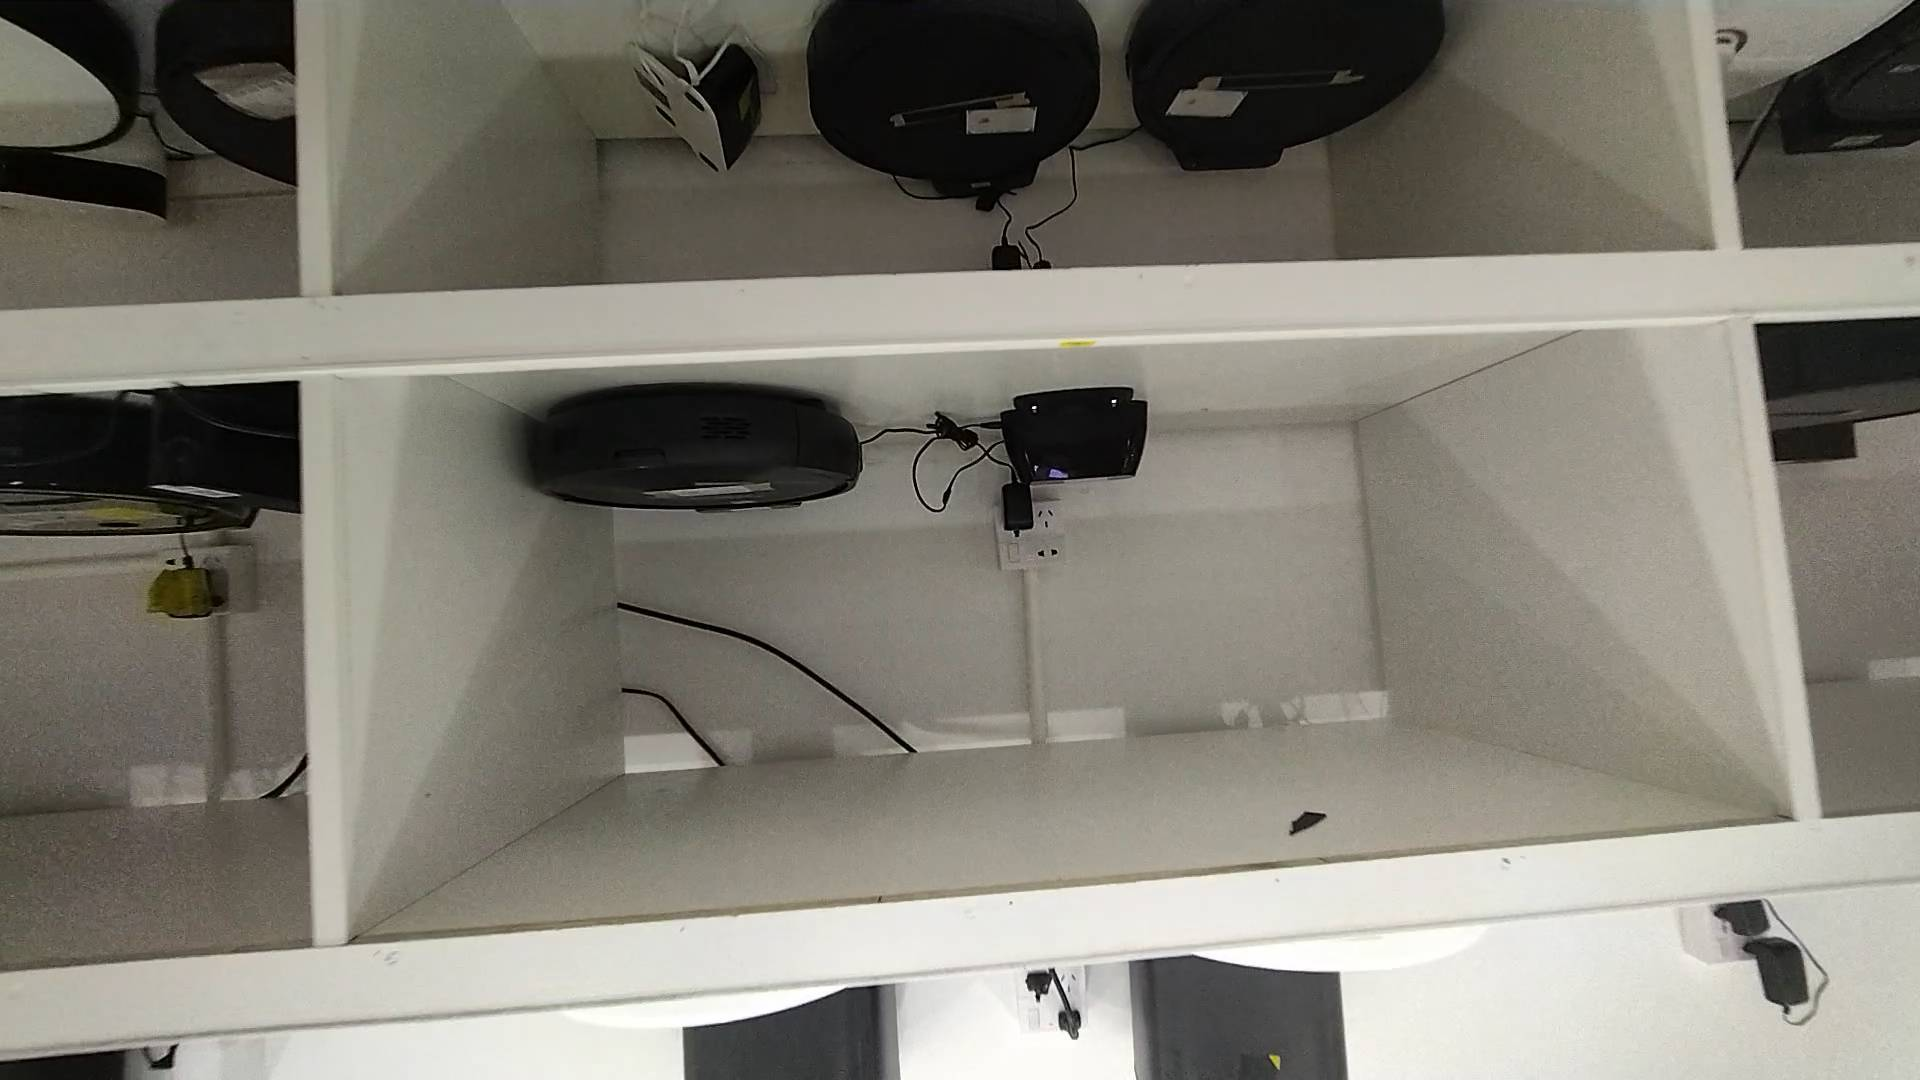recharge seat: (1000, 389, 1153, 487)
